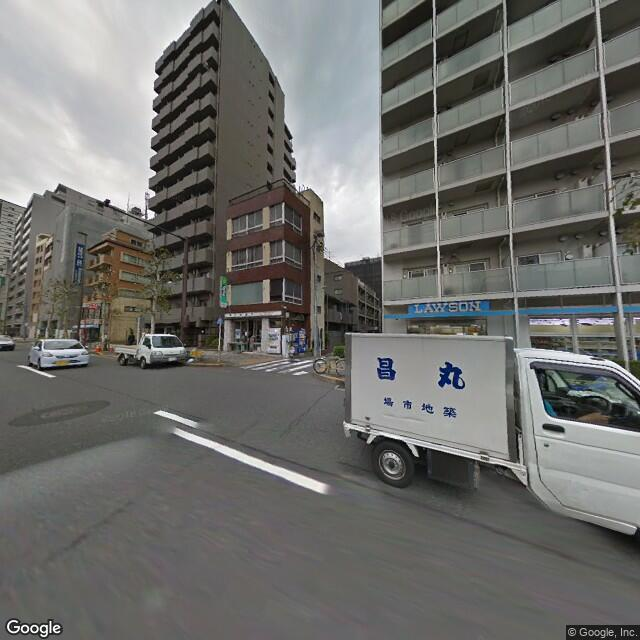lawson: (407, 295, 483, 319)
